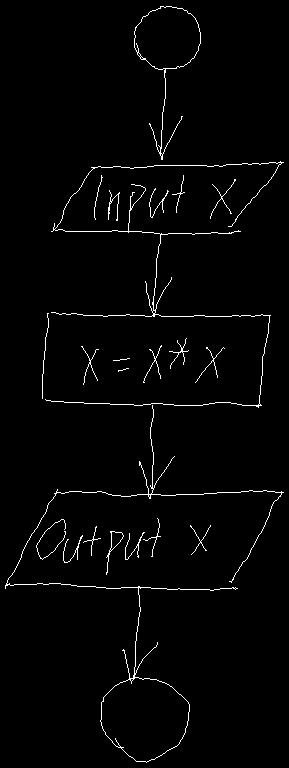arrow: (122, 586, 157, 683), (139, 405, 174, 498), (149, 70, 182, 159), (145, 233, 171, 316)
connection: (100, 677, 189, 762), (134, 6, 200, 69)
data: (5, 489, 283, 590), (51, 161, 283, 234)
process: (42, 312, 270, 407)
text: (36, 518, 210, 574), (94, 175, 235, 232), (81, 338, 224, 384)
